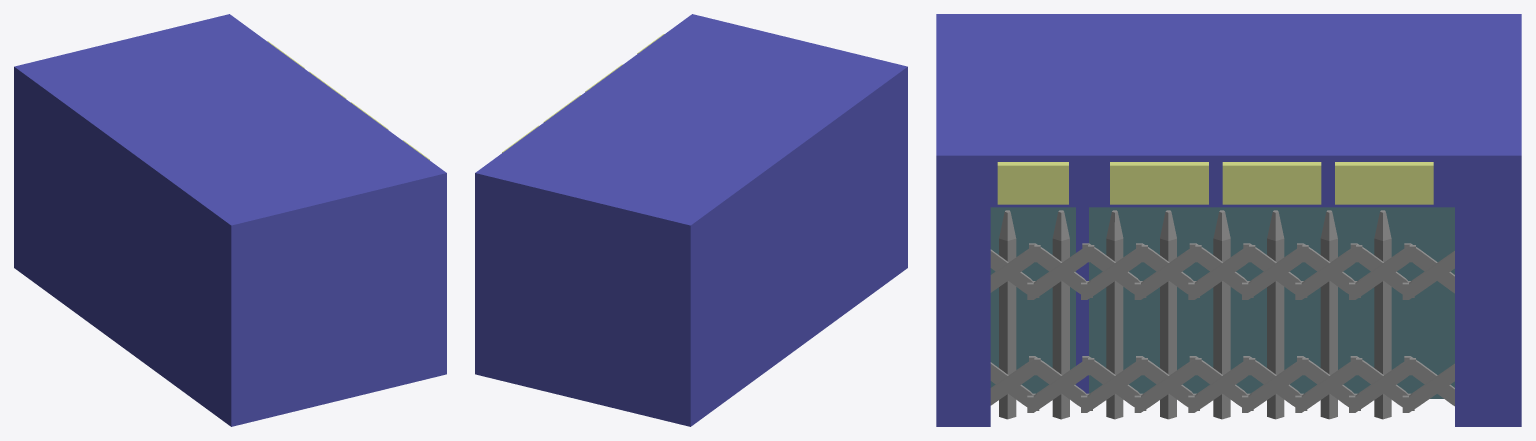
The model's file is Store2b.fbx.
3 views of the same model, side by side, from view 1: azimuth 30°, elevation 25°; view 2: azimuth 150°, elevation 25°; view 3: azimuth 270°, elevation 25° (orthographic). The views are drawn at different scales.
Parts seen in each view (by area): view 1: Store2b; view 2: Store2b; view 3: Store2b.
Part boxes in pixels (left/top/right/bottom): Store2b: left=14, top=14, right=446, bottom=426; Store2b: left=475, top=14, right=907, bottom=426; Store2b: left=936, top=14, right=1521, bottom=426.
Bounding box in the file's own units: 263 × 229 × 447.
